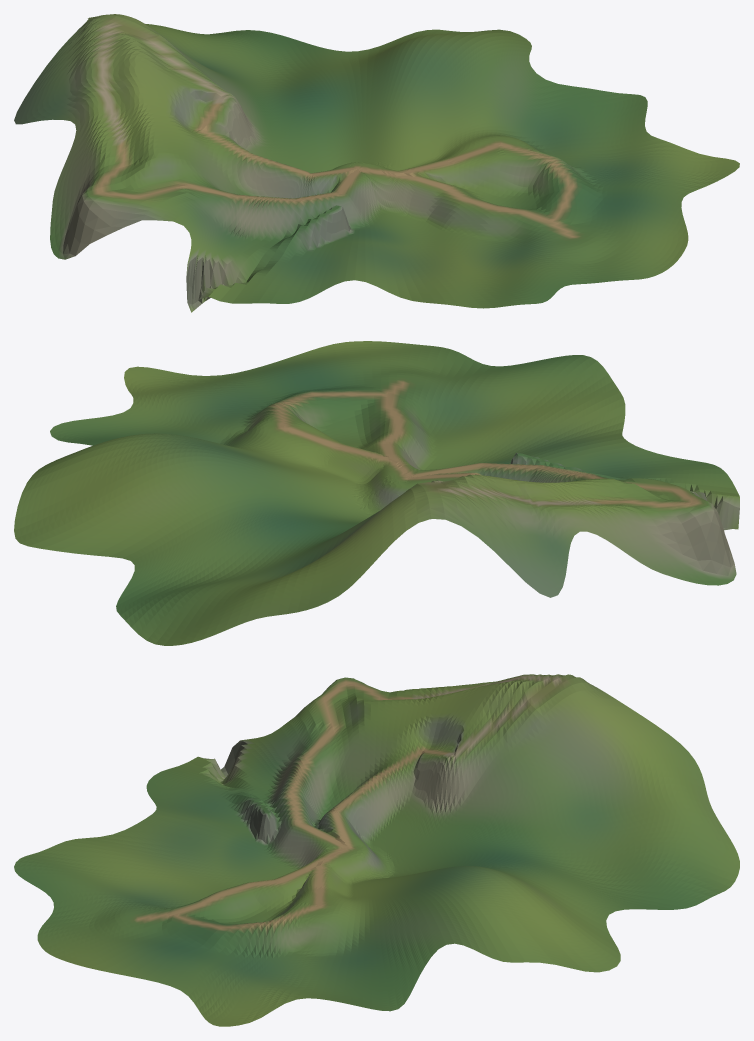
Rendered from exact-terrain-reference.glb.
The picture shows the model from 3 angles, top to bottom: view 1: azimuth 30°, elevation 25°; view 2: azimuth 150°, elevation 25°; view 3: azimuth 270°, elevation 25°; orthographic projection. The views are drawn at different scales.
Parts seen in each view (by area): view 1: Exact R0A3 Terrain; view 2: Exact R0A3 Terrain; view 3: Exact R0A3 Terrain.
Part boxes in pixels (box(x1,y1,x2,y2)): Exact R0A3 Terrain: box(14, 14, 739, 312); Exact R0A3 Terrain: box(14, 341, 739, 645); Exact R0A3 Terrain: box(14, 674, 739, 1026).
Bounding box in the file's own units: 178 × 38.72 × 183.
